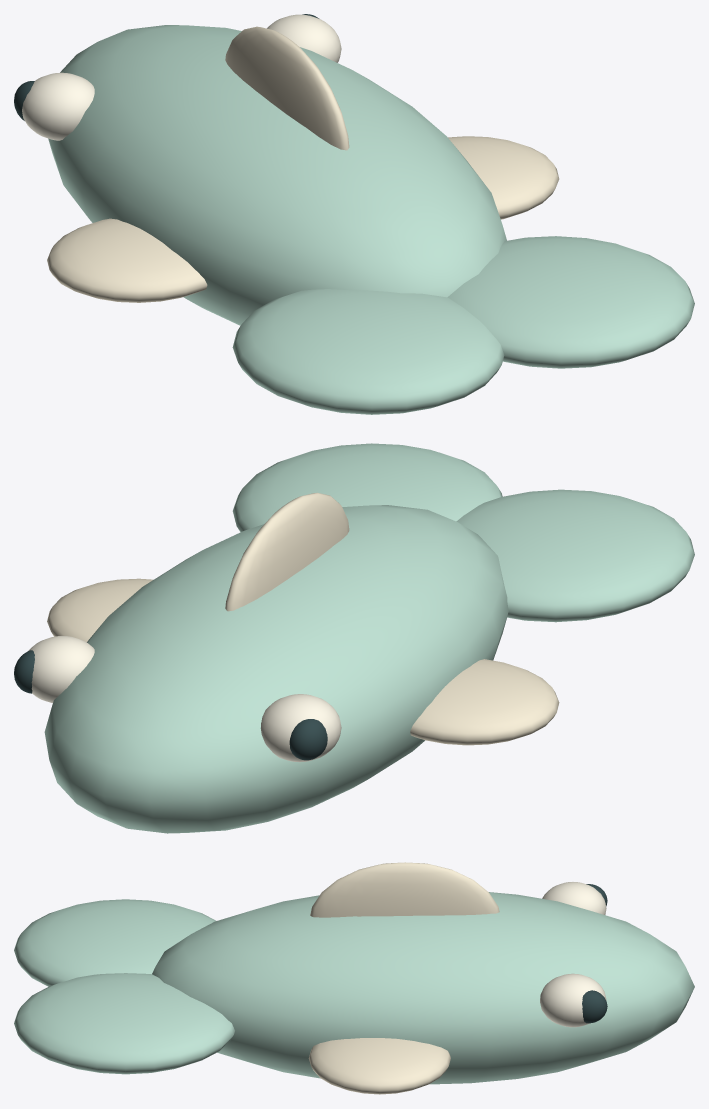
The model's file is Fish1.fbx.
3 views of the same model, one above another, from view 1: azimuth 30°, elevation 25°; view 2: azimuth 150°, elevation 25°; view 3: azimuth 270°, elevation 25° (orthographic). The views are drawn at different scales.
Parts seen in each view (by area): view 1: Fish1; view 2: Fish1; view 3: Fish1.
Part boxes in pixels (x1,y1,x2,y2): Fish1: (14,14,694,414); Fish1: (14,443,694,833); Fish1: (14,862,694,1094).
Size of the model in its own units: 44 by 22 by 67.
